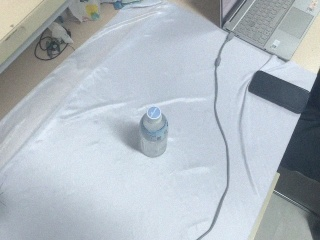bottle: (138, 105, 170, 158)
phone: (247, 67, 317, 116)
